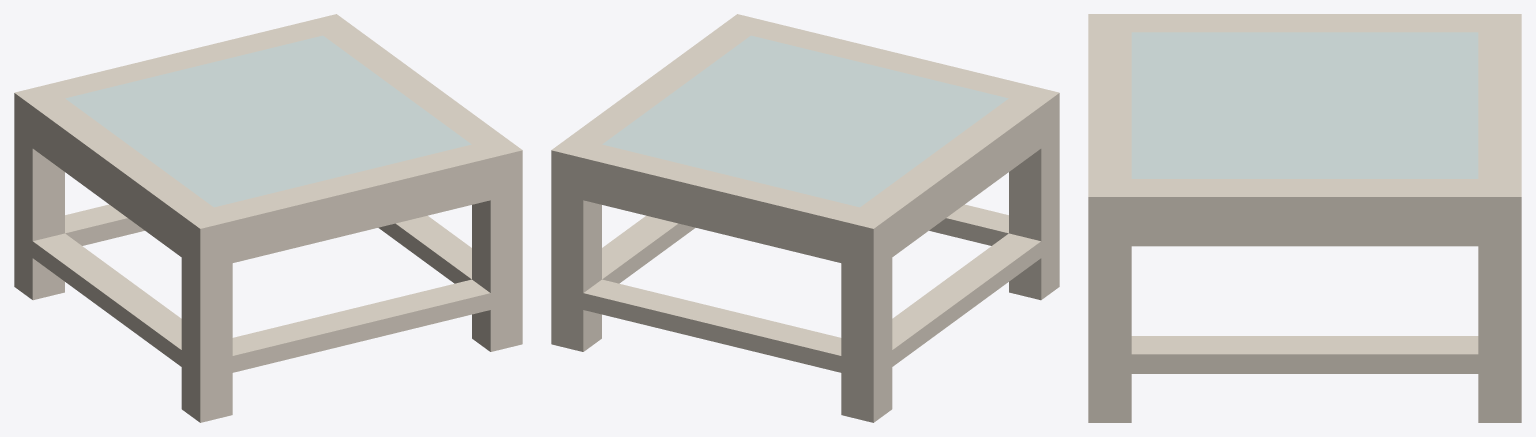
Rendered from kitTableCoffeeGlassSquare.glb.
The picture shows the model from 3 angles, left to right: view 1: azimuth 30°, elevation 25°; view 2: azimuth 150°, elevation 25°; view 3: azimuth 270°, elevation 25°; orthographic projection. The views are drawn at different scales.
Visible parts, largest first — view 1: kitTableCoffeeGlassSquare_metal, kitTableCoffeeGlassSquare_glass; view 2: kitTableCoffeeGlassSquare_metal, kitTableCoffeeGlassSquare_glass; view 3: kitTableCoffeeGlassSquare_metal, kitTableCoffeeGlassSquare_glass.
Part boxes in pixels (x1,y1,x2,y2): kitTableCoffeeGlassSquare_metal: [14, 14, 522, 422]; kitTableCoffeeGlassSquare_glass: [65, 35, 471, 207]; kitTableCoffeeGlassSquare_metal: [551, 14, 1059, 422]; kitTableCoffeeGlassSquare_glass: [602, 35, 1008, 207]; kitTableCoffeeGlassSquare_metal: [1088, 14, 1521, 422]; kitTableCoffeeGlassSquare_glass: [1131, 32, 1478, 178].
Size of the model in its own units: 0.8 by 0.46 by 0.8.
